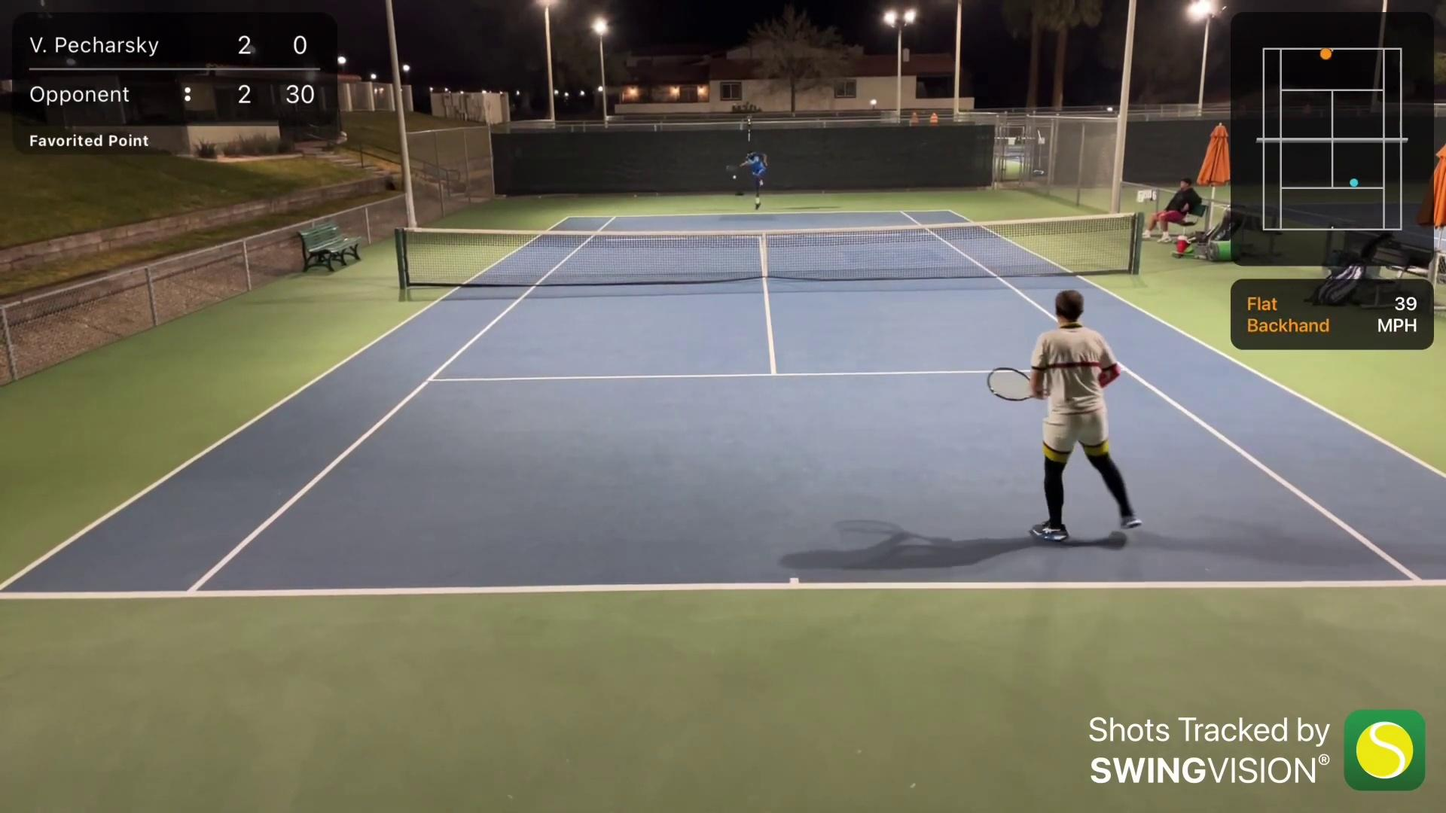ball: (731, 171, 740, 183), (631, 193, 640, 199), (535, 195, 544, 199)
